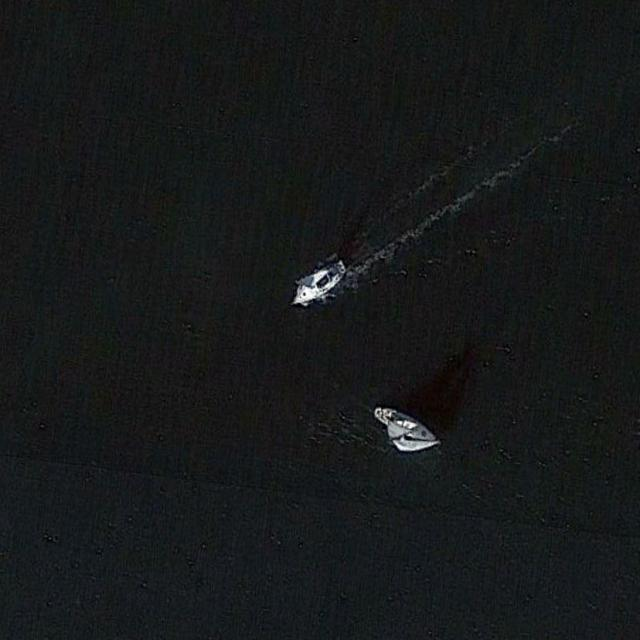ship: (370, 402, 439, 452), (291, 256, 352, 306)
